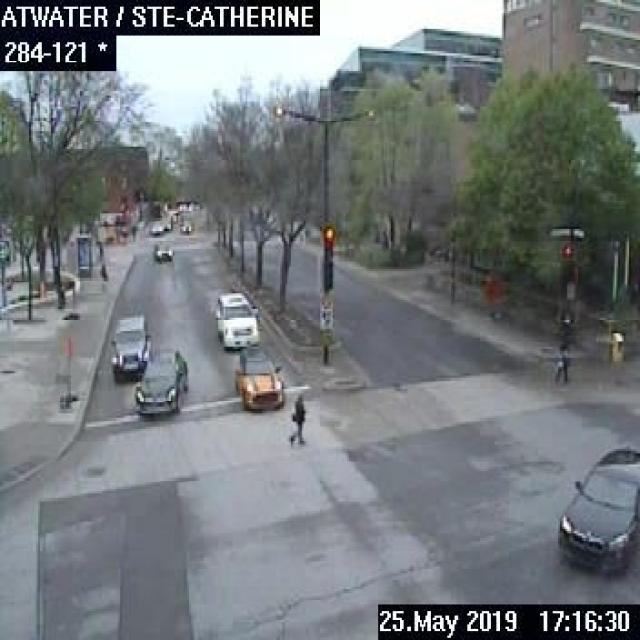pedestrian: (547, 326, 569, 384), (288, 389, 306, 447)
vehicle: (559, 446, 638, 576), (133, 348, 188, 413), (234, 349, 282, 409), (110, 313, 150, 378), (214, 289, 258, 348), (152, 239, 172, 260), (178, 218, 192, 234)
